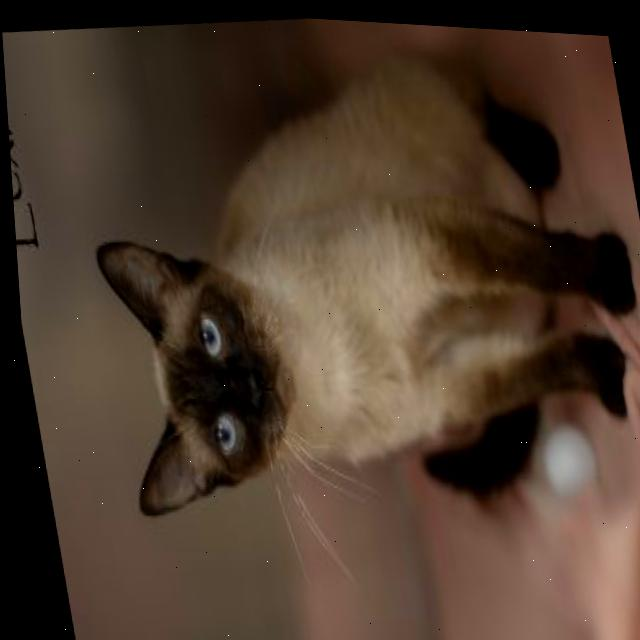Siamese: (50, 11, 640, 562)
